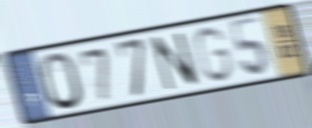5: (226, 13, 273, 79)
7: (113, 35, 150, 100), (76, 44, 112, 103)
G: (191, 25, 235, 85)
N: (148, 30, 203, 93)
O: (38, 50, 86, 112)
